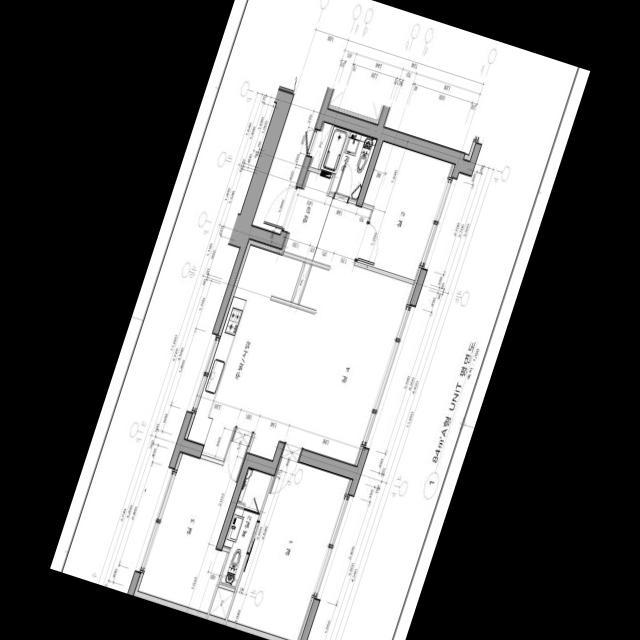background: (50, 0, 590, 640)
space_bedroom: (228, 458, 350, 640), (138, 426, 254, 613), (357, 142, 453, 281)
space_front: (284, 171, 332, 260)
space_kitchen: (188, 245, 320, 460)
space_living_room: (279, 199, 414, 465)
space_other: (252, 93, 323, 234), (309, 122, 333, 168), (209, 587, 235, 620), (293, 263, 311, 303)
space_toilet: (220, 469, 272, 588), (320, 126, 377, 200)
